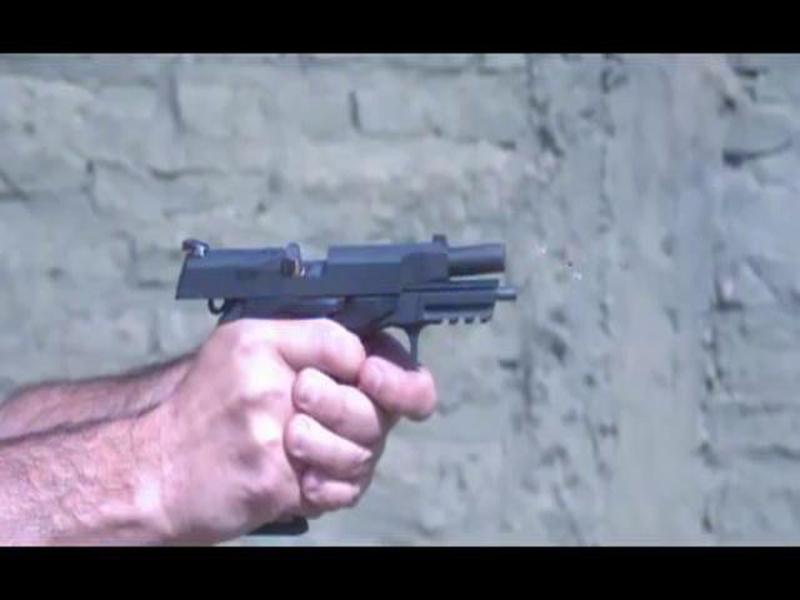Pistola: (170, 229, 528, 440)
